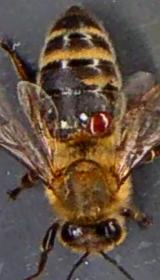varroa_mite: (81, 106, 113, 140)
